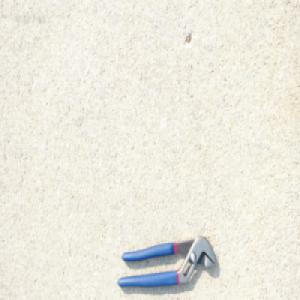Pliers: (117, 233, 217, 286)
